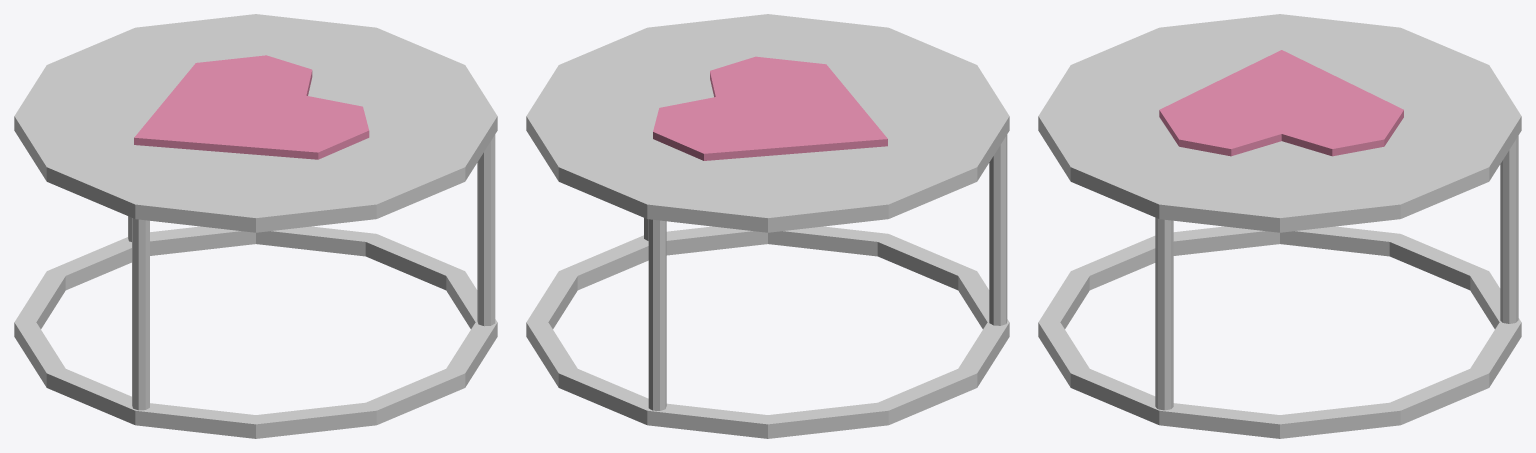
The model's file is MESA CENTRO CIRCULAR.fbx.
The picture shows the model from 3 angles, left to right: view 1: azimuth 30°, elevation 25°; view 2: azimuth 150°, elevation 25°; view 3: azimuth 270°, elevation 25°; orthographic projection.
Visible parts, largest first — view 1: MESA_CIRCULAR, CORAZONES; view 2: MESA_CIRCULAR, CORAZONES; view 3: MESA_CIRCULAR, CORAZONES.
Part boxes in pixels (left/top/right/bottom): MESA_CIRCULAR: left=14, top=14, right=497, bottom=438; CORAZONES: left=134, top=55, right=369, bottom=159; MESA_CIRCULAR: left=526, top=14, right=1009, bottom=438; CORAZONES: left=653, top=56, right=887, bottom=160; MESA_CIRCULAR: left=1038, top=14, right=1521, bottom=438; CORAZONES: left=1159, top=50, right=1403, bottom=156.
Size of the model in its own units: 369 by 192 by 369.
